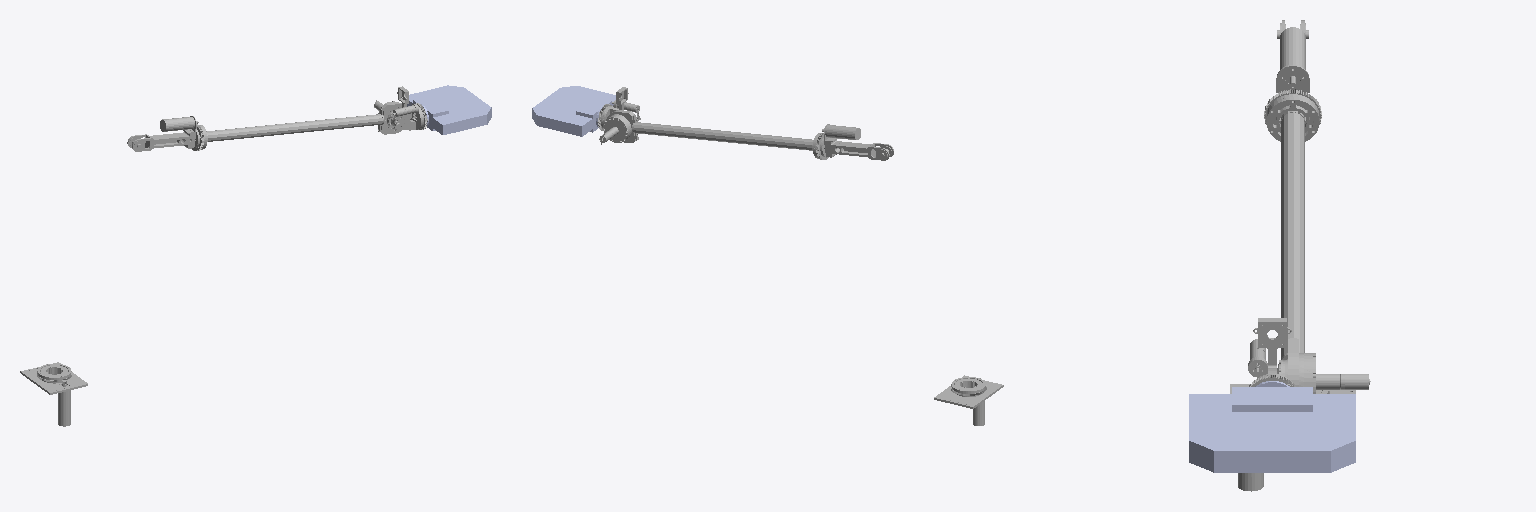
URDF robot description (arm_urdf):
<?xml version="1.0" encoding="utf-8"?>
<!-- This URDF was automatically created by SolidWorks to URDF Exporter! Originally created by [author] ([email redacted]) 
     Commit Version: 1.6.0-4-g7f85cfe  Build Version: 1.6.7995.38578
     For more information, please see http://wiki.ros.org/sw_urdf_exporter -->
<robot
  name="arm_urdf">
  <link name="arm_base_link"/>
  <joint name="arm_base_joint" type="fixed">
    <parent link="arm_base_link"/>
    <child link="Link_1"/>
    <origin xyz="0.0 0.0 0.0 " rpy="0 0 0"/>
  </joint>
  <link
    name="Link_1">
    <inertial>
      <origin
        xyz="1.2135E-06 -0.02143 -0.020558"
        rpy="0 0 0" />
      <mass
        value="1.1012" />
      <inertia
        ixx="0.0016519"
        ixy="-6.1763E-09"
        ixz="6.851E-09"
        iyy="0.0012744"
        iyz="-4.7508E-08"
        izz="0.00197" />
    </inertial>
    <visual>
      <origin
        xyz="0 0 0"
        rpy="0 0 0" />
      <geometry>
        <mesh
          filename="package://arm_urdf/meshes/visual/Link_1.STL" />
      </geometry>
      <material
        name="">
        <color
          rgba="0.75294 0.75294 0.75294 1" />
      </material>
    </visual>
    <collision>
      <origin
        xyz="0 0 0"
        rpy="0 0 0" />
      <geometry>
        <mesh
          filename="package://arm_urdf/meshes/visual/Link_1.STL" />
      </geometry>
    </collision>
  </link>
  <link
    name="Link_2">
    <inertial>
      <origin
        xyz="0.043108 -2.1745E-05 0.059053"
        rpy="0 0 0" />
      <mass
        value="0.73837" />
      <inertia
        ixx="0.00093874"
        ixy="1.5579E-12"
        ixz="-0.00038189"
        iyy="0.0036493"
        iyz="-2.0363E-13"
        izz="0.0029712" />
    </inertial>
    <visual>
      <origin
        xyz="0 0 0"
        rpy="0 0 0" />
      <geometry>
        <mesh
          filename="package://arm_urdf/meshes/visual/Link_2.STL" />
      </geometry>
      <material
        name="">
        <color
          rgba="0.75294 0.75294 0.75294 1" />
      </material>
    </visual>
    <collision>
      <origin
        xyz="0 0 0"
        rpy="0 0 0" />
      <geometry>
        <mesh
          filename="package://arm_urdf/meshes/visual/Link_2.STL" />
      </geometry>
    </collision>
  </link>
  <joint
    name="Joint_1"
    type="revolute">
    <origin
      xyz="0 0 0.022287"
      rpy="0 0 0" />
    <parent
      link="Link_1" />
    <child
      link="Link_2" />
    <axis
      xyz="0 0 1" />
    <limit effort="100.0" velocity="0.5" lower="-3.14" upper="3.14"/>
  </joint>
  <link
    name="Link_3">
    <inertial>
      <origin
        xyz="0.19303 -5.1959E-06 0.26879"
        rpy="0 0 0" />
      <mass
        value="2.2244" />
      <inertia
        ixx="0.023418"
        ixy="3.1415E-07"
        ixz="-0.019021"
        iyy="0.040426"
        iyz="2.9106E-07"
        izz="0.017736" />
    </inertial>
    <visual>
      <origin
        xyz="0 0 0"
        rpy="0 0 0" />
      <geometry>
        <mesh
          filename="package://arm_urdf/meshes/visual/Link_3.STL" />
      </geometry>
      <material
        name="">
        <color
          rgba="0.75294 0.75294 0.75294 1" />
      </material>
    </visual>
    <collision>
      <origin
        xyz="0 0 0"
        rpy="0 0 0" />
      <geometry>
        <mesh
          filename="package://arm_urdf/meshes/visual/Link_3.STL" />
      </geometry>
    </collision>
  </link>
  <joint
    name="Joint_2"
    type="revolute">
    <origin
      xyz="-0.03175 0 0.1"
      rpy="0 0 0" />
    <parent
      link="Link_2" />
    <child
      link="Link_3" />
    <axis
      xyz="0 -1 0" />
    <limit effort="100.0" velocity="0.10" lower="-0.65" upper="0.2361743685324814"/>
  </joint>
  <link
    name="Link_4">
    <inertial>
      <origin
        xyz="-0.01434 1.2814E-05 0.0091153"
        rpy="0 0 0" />
      <mass
        value="0.72553" />
      <inertia
        ixx="0.00031276"
        ixy="-8.4012E-07"
        ixz="0.00012697"
        iyy="0.0012481"
        iyz="1.1564E-07"
        izz="0.0012124" />
    </inertial>
    <visual>
      <origin
        xyz="0 0 0"
        rpy="0 0 0" />
      <geometry>
        <mesh
          filename="package://arm_urdf/meshes/visual/Link_4.STL" />
      </geometry>
      <material
        name="">
        <color
          rgba="0.75294 0.75294 0.75294 1" />
      </material>
    </visual>
    <collision>
      <origin
        xyz="0 0 0"
        rpy="0 0 0" />
      <geometry>
        <mesh
          filename="package://arm_urdf/meshes/visual/Link_4.STL" />
      </geometry>
    </collision>
  </link>
  <joint
    name="Joint_3"
    type="revolute">
    <origin
      xyz="0.4507 0 0.5371"
      rpy="0 0 0" />
    <parent
      link="Link_3" />
    <child
      link="Link_4" />
    <axis
      xyz="0 -1 0" />
    <limit effort="100.0" velocity="0.08" lower="-0.7417525505578109" upper="0.2139174802949436"/>
  </joint>
  <link
    name="Link_5">
    <inertial>
      <origin
        xyz="0.51419 0.0050617 -0.071041"
        rpy="0 0 0" />
      <mass
        value="0.90226" />
      <inertia
        ixx="0.00051877"
        ixy="-2.4488E-08"
        ixz="0.0012308"
        iyy="0.0095984"
        iyz="5.8789E-08"
        izz="0.0092566" />
    </inertial>
    <visual>
      <origin
        xyz="0 0 0"
        rpy="0 0 0" />
      <geometry>
        <mesh
          filename="package://arm_urdf/meshes/visual/Link_5.STL" />
      </geometry>
      <material
        name="">
        <color
          rgba="0.75294 0.75294 0.75294 1" />
      </material>
    </visual>
    <collision>
      <origin
        xyz="0 0 0"
        rpy="0 0 0" />
      <geometry>
        <mesh
          filename="package://arm_urdf/meshes/visual/Link_5.STL" />
      </geometry>
    </collision>
  </link>
  <joint
    name="Joint_4"
    type="revolute">
    <origin
      xyz="0.03191 0 -0.0044098"
      rpy="0 0 0" />
    <parent
      link="Link_4" />
    <child
      link="Link_5" />
    <axis
      xyz="-0.99059 0 0.1369" />
    <limit effort="100.0" velocity="0.5" lower="-3.14" upper="3.14"/>
  </joint>
  <link
    name="Link_6">
    <inertial>
      <origin
        xyz="0.0383763684322416 -0.0312533725314954 0.0119826354812156"
        rpy="0 0 0" />
      <mass
        value="0.496128874632715" />
      <inertia
        ixx="0.000436019677417067"
        ixy="1.79387675641684E-08"
        ixz="5.55858498377867E-06"
        iyy="0.000360350959516144"
        iyz="1.18167225716985E-06"
        izz="0.00017729369850073" />
    </inertial>
    <visual>
      <origin
        xyz="0 0 0"
        rpy="0 0 0" />
      <geometry>
        <mesh
          filename="package://arm_urdf/meshes/visual/Link_6.STL" />
      </geometry>
      <material
        name="">
        <color
          rgba="0.752941176470588 0.752941176470588 0.752941176470588 1" />
      </material>
    </visual>
    <collision>
      <origin
        xyz="0 0 0"
        rpy="0 0 0" />
      <geometry>
        <mesh
          filename="package://arm_urdf/meshes/visual/Link_6.STL" />
      </geometry>
    </collision>
  </link>
  <joint
    name="Joint_5"
    type="revolute">
    <origin
      xyz="0.68151 0 -0.094183"
      rpy="0 0 0" />
    <parent
      link="Link_5" />
    <child
      link="Link_6" />
    <axis
      xyz="0 -1 0" />
    <limit effort="100.0" velocity="1.0" lower="-1.599417185" upper="1.1678841562"/>
  </joint>
  <link
    name="Link_7">
    <inertial>
      <origin
        xyz="0.087198 -5.5511E-17 -2.2204E-16"
        rpy="0 0 0" />
      <mass
        value="1.4764" />
      <inertia
        ixx="0.0058401"
        ixy="-1.0445E-18"
        ixz="5.2558E-18"
        iyy="0.0043142"
        iyz="3.419E-19"
        izz="0.0097785" />
    </inertial>
    <visual>
      <origin
        xyz="0 0 0"
        rpy="0 0 0" />
      <geometry>
        <mesh
          filename="package://arm_urdf/meshes/visual/Link_7.STL" />
      </geometry>
      <material
        name="">
        <color
          rgba="0.79216 0.81961 0.93333 1" />
      </material>
    </visual>
    <collision>
      <origin
        xyz="0 0 0"
        rpy="0 0 0" />
      <geometry>
        <mesh
          filename="package://arm_urdf/meshes/visual/Link_7.STL" />
      </geometry>
    </collision>
  </link>
  <joint
    name="Joint_6"
    type="continuous">
    <origin
      xyz="0.071675 -0.02785 0"
      rpy="0 0 0" />
    <parent
      link="Link_6" />
    <child
      link="Link_7" />
    <axis
      xyz="-1 0 0" />
    <limit effort="100.0" velocity="1.0"/>
  </joint>
  <link name="eef_link"/>
  <joint name="eef_joint" type="fixed">
    <parent link="Link_7"/>
    <child link="eef_link"/>
    <origin xyz="0.2 0.0 0.0 " rpy="0 0 0"/>
  </joint>
</robot>

--- Facts derived from the render (not from the file) ---
3 views of the same robot in one strip: view 1: azimuth 30°, elevation 25°; view 2: azimuth 150°, elevation 25°; view 3: azimuth 270°, elevation 25° (orthographic).
Model arm_urdf with 9 links and 8 joints (5 revolute, 1 continuous, 2 fixed), rooted at arm_base_link, posed all joints at 0.
Visible links, largest first — view 1: Link_7, Link_5, Link_1, Link_4, Link_6; view 2: Link_5, Link_7, Link_4, Link_1, Link_6; view 3: Link_7, Link_5, Link_4, Link_6, Link_1.
Boxes of the visible links, x1=… form: Link_7: x1=407, y1=85, x2=491, y2=134; Link_5: x1=200, y1=100, x2=401, y2=149; Link_1: x1=20, y1=362, x2=87, y2=426; Link_4: x1=127, y1=116, x2=205, y2=151; Link_6: x1=392, y1=86, x2=427, y2=130; Link_5: x1=599, y1=110, x2=820, y2=158; Link_7: x1=532, y1=86, x2=615, y2=136; Link_4: x1=814, y1=124, x2=893, y2=160; Link_1: x1=934, y1=375, x2=1003, y2=425; Link_6: x1=597, y1=87, x2=640, y2=130; Link_7: x1=1189, y1=381, x2=1355, y2=472; Link_5: x1=1266, y1=97, x2=1370, y2=393; Link_4: x1=1264, y1=20, x2=1321, y2=132; Link_6: x1=1248, y1=318, x2=1295, y2=386; Link_1: x1=1230, y1=384, x2=1355, y2=491.
Bounding box of the posed robot: 1.45 × 0.2482 × 0.858 m (x, y, z).
5 mesh visuals loaded from 7 distinct referenced files (5 binary STL); not drawn: 2 (reference not matched to a file when rendering).